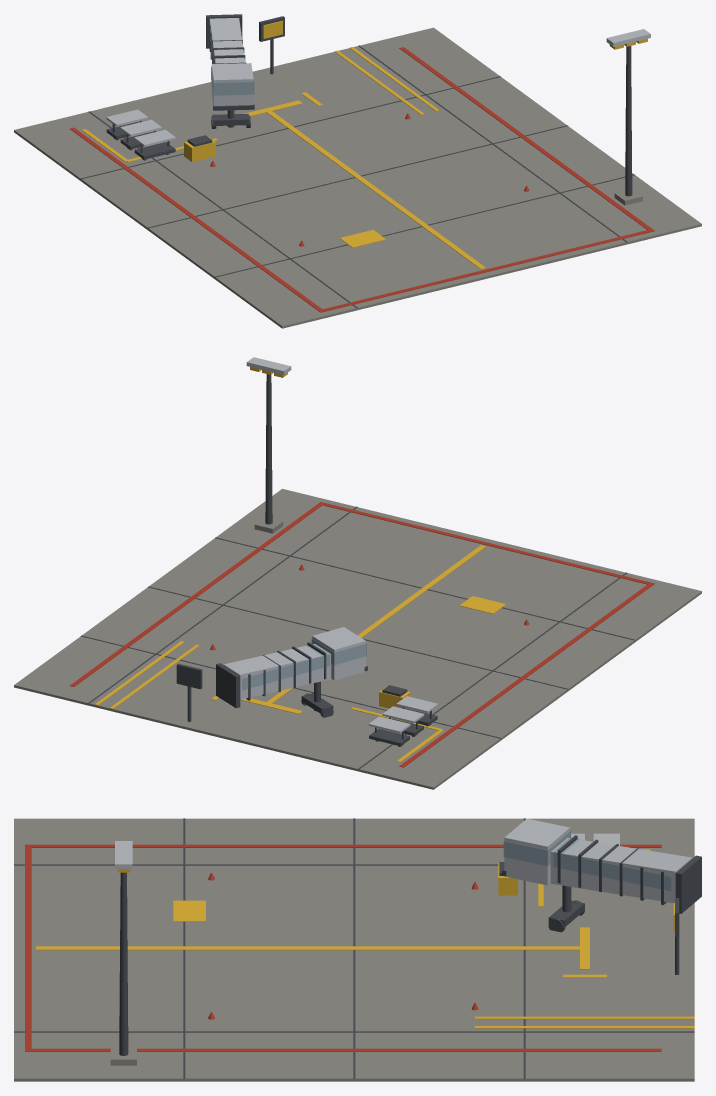
File: stand.glb
3 renders of one model, top to bottom at view 1: azimuth 30°, elevation 25°; view 2: azimuth 150°, elevation 25°; view 3: azimuth 270°, elevation 25°, orthographic. The views are drawn at different scales.
Parts seen in each view (by area): view 1: apron_slab, bridge_cab, safety_line_w, safety_line_e, lead_in_line, bridge_tube, safety_line_end, mast_pole, slab_joint_x2, slab_joint_x1, slab_joint_x3, bridge_cab_glass (+3 smaller); view 2: apron_slab, bridge_tube, bridge_cab, safety_line_w, safety_line_e, safety_line_end, bridge_tube_glazing, mast_pole, lead_in_line, bridge_collar; view 3: apron_slab, bridge_tube, bridge_cab, lead_in_line, safety_line_e, safety_line_w, bridge_tube_glazing, mast_pole, safety_line_end, slab_joint_z1, bridge_collar, slab_joint_z0 (+11 smaller).
Part boxes in pixels (x1,y1,x2,y2): apron_slab: (14, 27, 701, 328); bridge_cab: (211, 63, 253, 110); safety_line_w: (70, 127, 324, 312); safety_line_e: (399, 47, 654, 232); lead_in_line: (265, 109, 485, 269); bridge_tube: (209, 18, 245, 63); safety_line_end: (319, 229, 653, 312); mast_pole: (625, 46, 632, 196); slab_joint_x2: (148, 125, 567, 228); slab_joint_x1: (80, 76, 500, 179); slab_joint_x3: (215, 174, 634, 277); bridge_cab_glass: (211, 66, 254, 95); apron_slab: (14, 489, 701, 789); bridge_tube: (223, 644, 331, 699); bridge_cab: (312, 627, 365, 680); safety_line_w: (399, 582, 654, 767); safety_line_e: (69, 502, 324, 686); safety_line_end: (322, 503, 652, 584); bridge_tube_glazing: (242, 643, 329, 690); mast_pole: (265, 374, 272, 524); lead_in_line: (265, 545, 485, 704); bridge_collar: (216, 663, 240, 708); apron_slab: (14, 818, 694, 1081); bridge_tube: (550, 837, 692, 902); bridge_cab: (504, 818, 569, 885); lead_in_line: (36, 946, 583, 950); safety_line_e: (25, 1048, 661, 1051); safety_line_w: (25, 844, 661, 847); bridge_tube_glazing: (553, 837, 671, 891); mast_pole: (119, 872, 128, 1055); safety_line_end: (25, 845, 31, 1050); slab_joint_z1: (14, 1031, 694, 1032); bridge_collar: (675, 855, 701, 913); slab_joint_z0: (14, 864, 498, 865).
Bounding box in the file's own units: 56 × 21.15 × 62.66.
